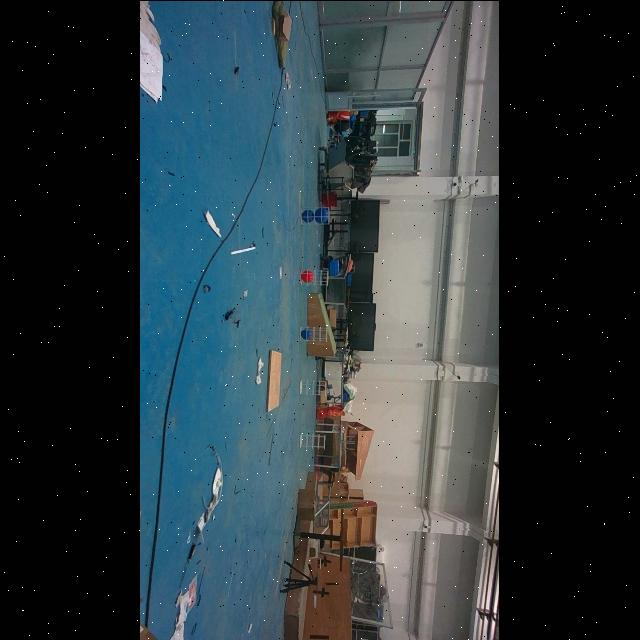B: (315, 206, 329, 224), (302, 208, 314, 222), (302, 324, 310, 340)
R: (300, 268, 314, 282)
S: (298, 202, 332, 226), (299, 429, 329, 451), (298, 376, 328, 398), (298, 266, 330, 286), (298, 323, 330, 342)
